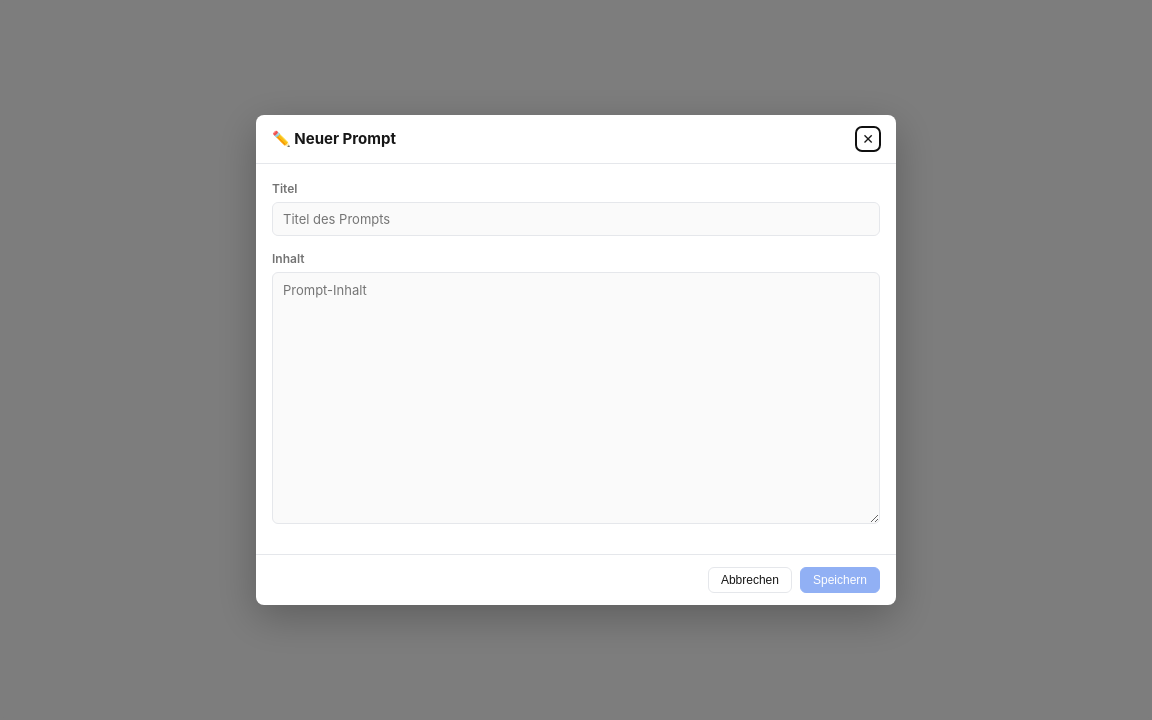
Test: PromptEditor › save error › shows the save error with role alert
Type "Titel" into the field labelled "Titel" at (576, 219), box x1=272 y1=202 x2=880 y2=236
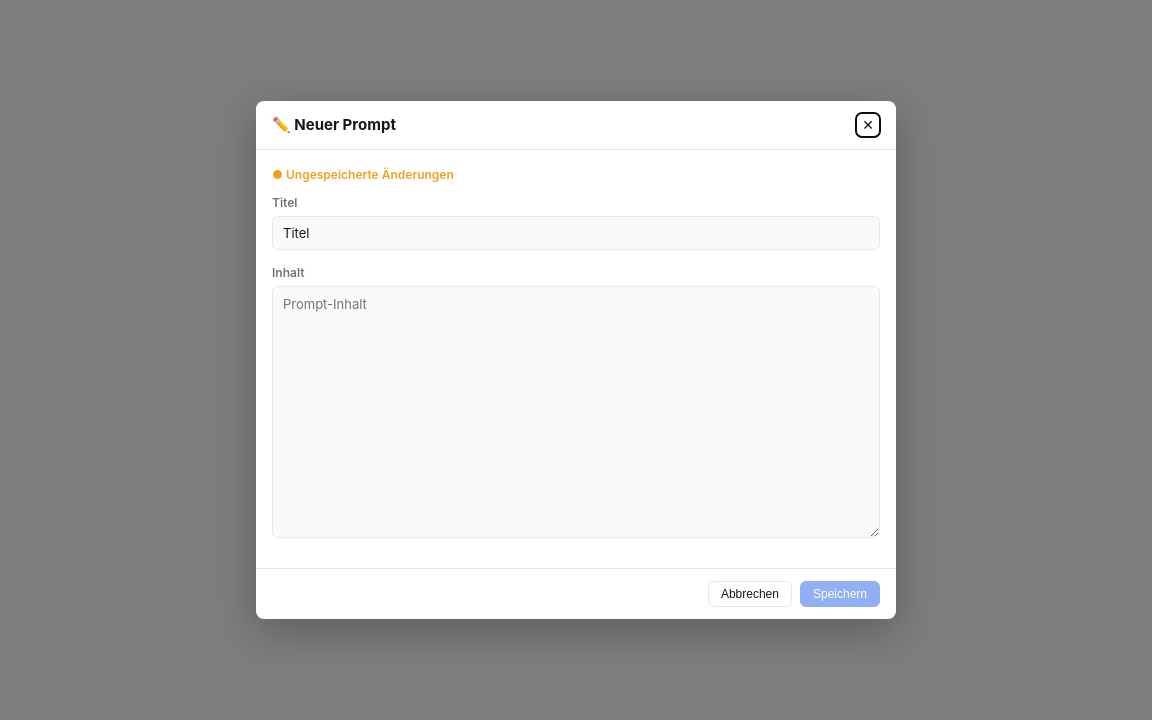
Type "Inhalt" into the text box labelled "Inhalt" at (576, 412), box x1=272 y1=286 x2=880 y2=538
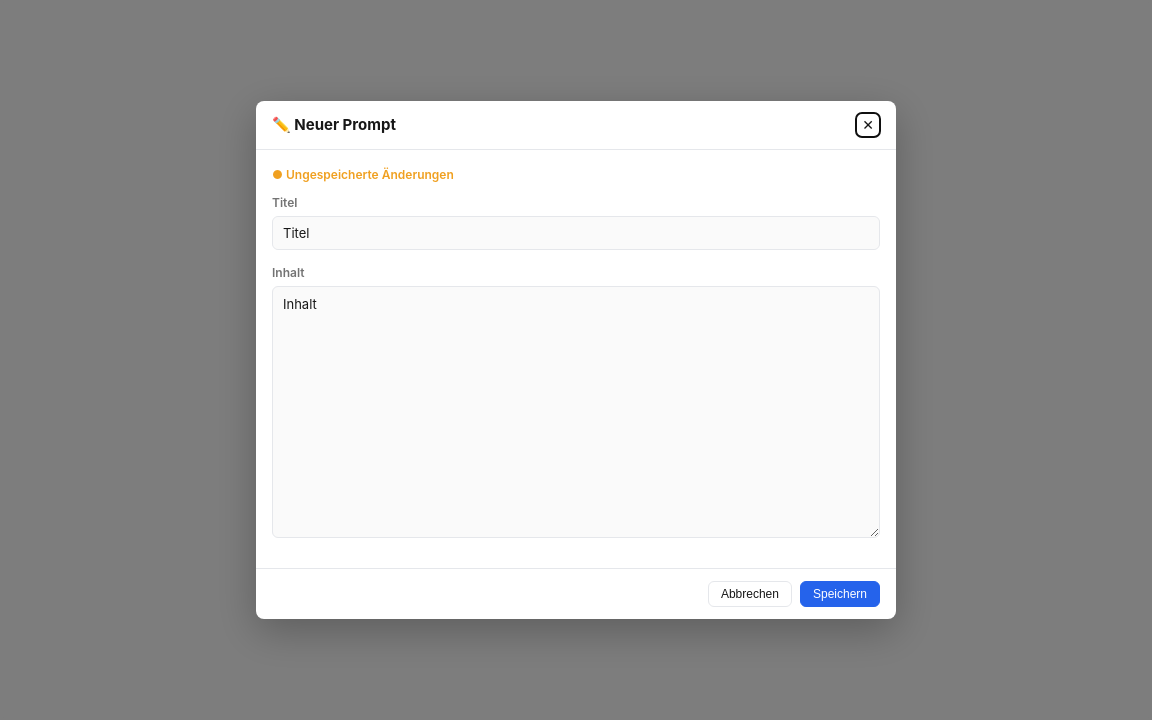
Click the button "Speichern" at (840, 594), box x1=800 y1=581 x2=880 y2=607
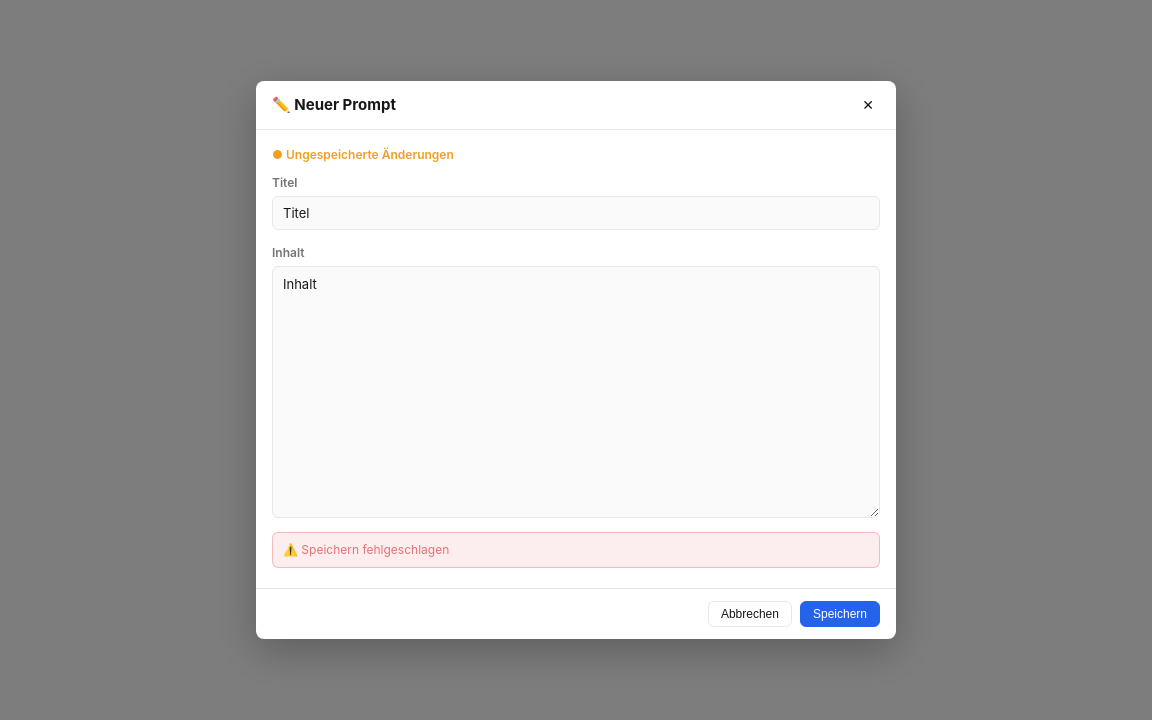
expect the message shows "Speichern fehlgeschlagen": met, box x1=301 y1=542 x2=449 y2=557
expect the message "⚠️ Speichern fehlgeschlagen" is shown: met, box x1=272 y1=532 x2=880 y2=568
